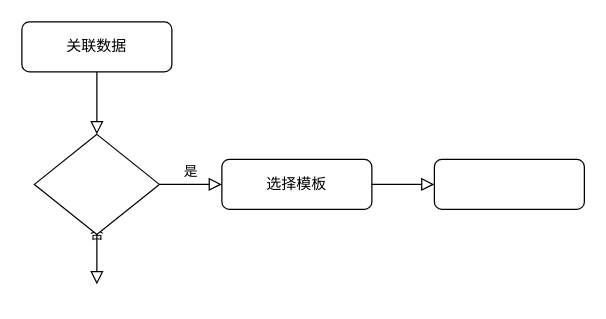
Image size: 606x319. Some labels were removed from this diagram. Each missing label, with the centre of its shape:
"是否使用模板" belongs at pixel 96 183.
"根据数据修改" belongs at pixel 508 183.
